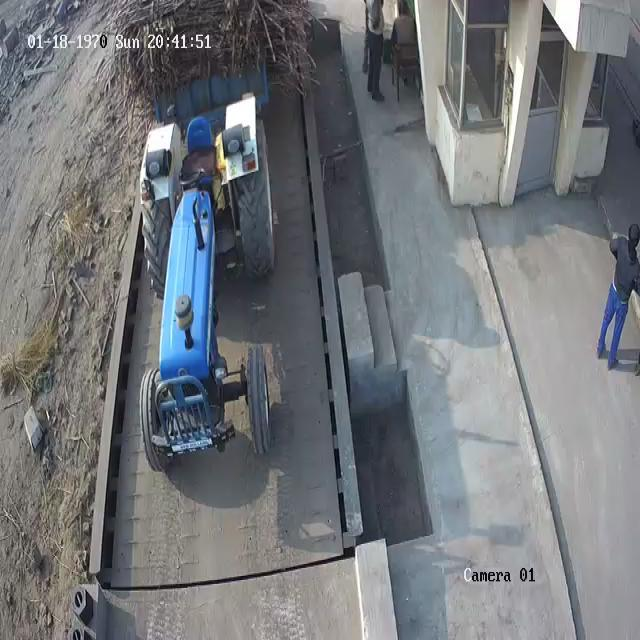Tratores - v5 YOLO V8L 2024-11-13: (141, 120, 275, 470)
